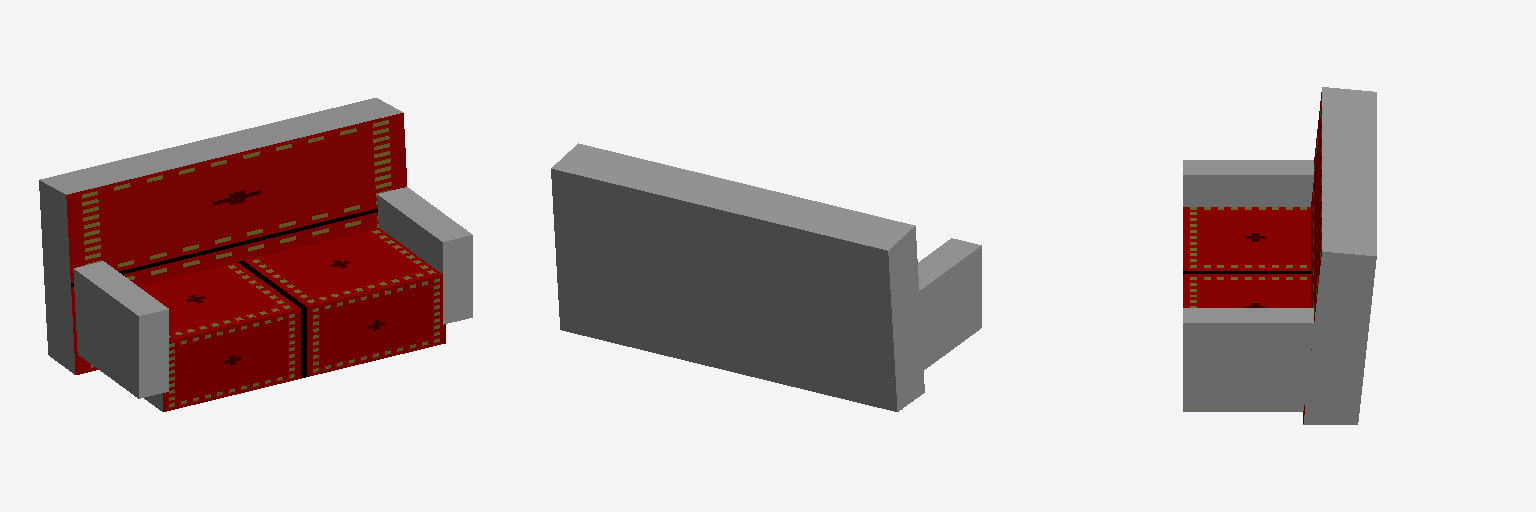
3 views of the same model, side by side, from view 1: azimuth 30°, elevation 25°; view 2: azimuth 150°, elevation 25°; view 3: azimuth 270°, elevation 25° (orthographic).
Parts seen in each view (by area): view 1: Cube; view 2: Cube; view 3: Cube.
Boxes of the visible parts, <box> form: Cube: <box>39,98,472,411</box>; Cube: <box>551,143,981,411</box>; Cube: <box>1183,87,1376,424</box>.
Size of the model in its own units: 14.81 by 7.29 by 7.37.
Materials: 3 (1 with a texture image).